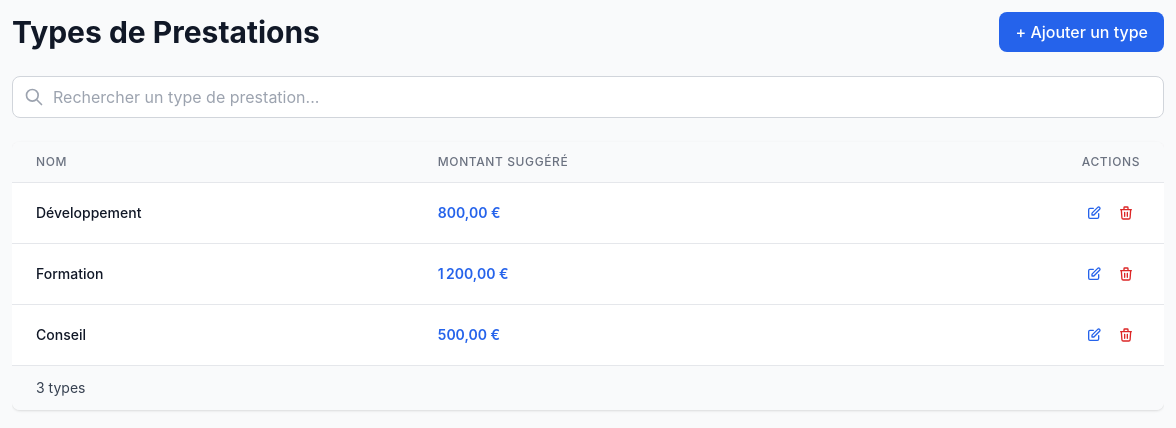
Test: TypesPrestations page › filters types when typing in search bar
Step 1. Type "Conseil" into the field with placeholder "Rechercher un type de prestation..." → (588,97), box [12, 76, 1164, 118]
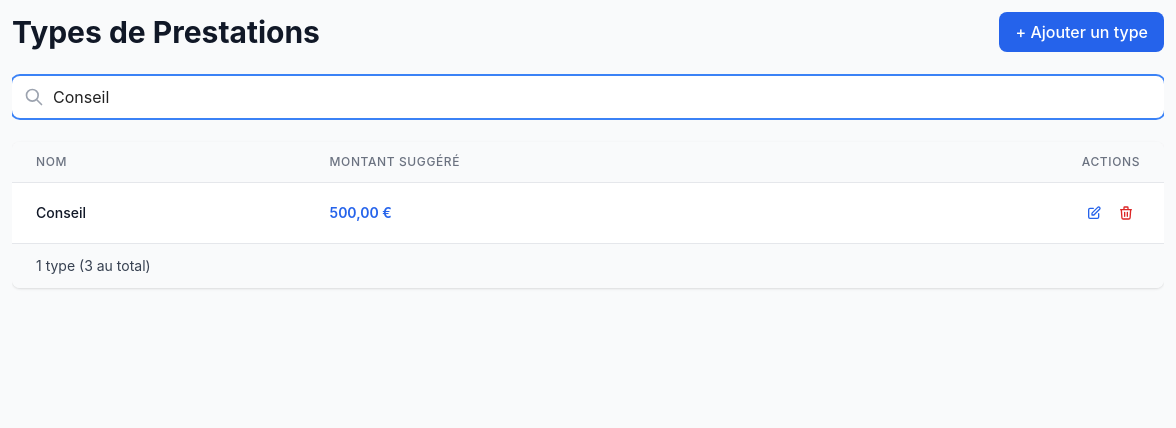
Now the text "Formation" is gone
